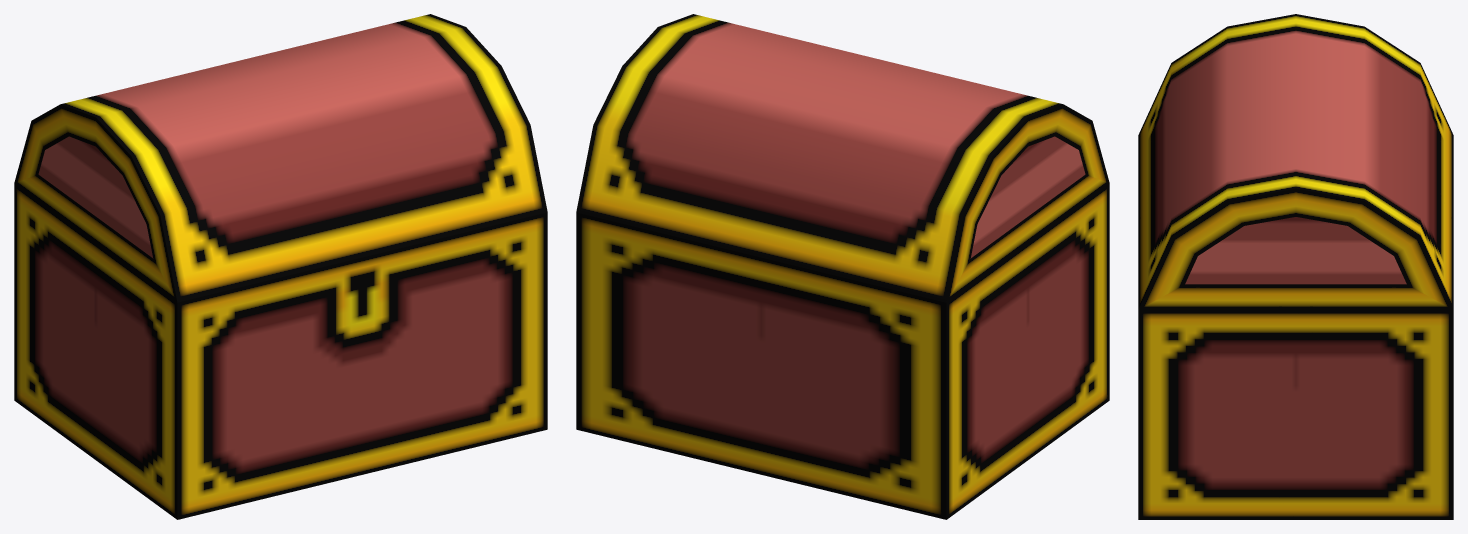
The model's file is deco_chestSmall_closed.FBX.
3 views of the same model, side by side, from view 1: azimuth 30°, elevation 25°; view 2: azimuth 150°, elevation 25°; view 3: azimuth 270°, elevation 25° (orthographic). The views are drawn at different scales.
Parts seen in each view (by area): view 1: deco_chestSmall_closed; view 2: deco_chestSmall_closed; view 3: deco_chestSmall_closed.
Part boxes in pixels (x1=…): deco_chestSmall_closed: x1=14, y1=14, x2=547, y2=519; deco_chestSmall_closed: x1=576, y1=14, x2=1109, y2=519; deco_chestSmall_closed: x1=1138, y1=14, x2=1453, y2=519.
Size of the model in its own units: 1.55 by 1.37 by 1.18.
Materials: 1 (1 with a texture image).
